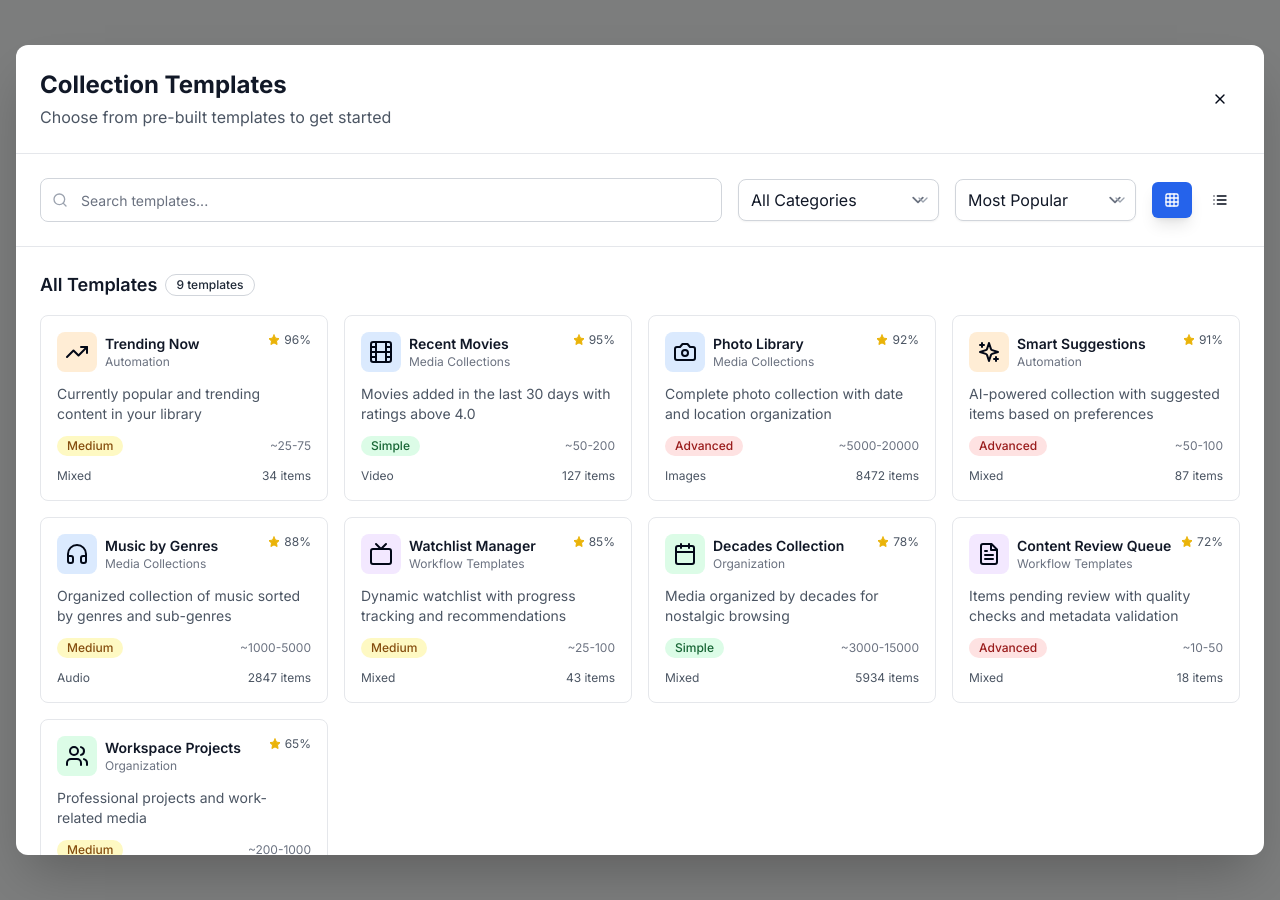
Test case: CollectionTemplates › closes template preview when Cancel is clicked
The width and height of the screenshot is (1280, 900).
What coordinates should you click on to do the following:
click the heading "Recent Movies"
I would click on:
 (460, 344)
Its box is [409,334,510,354].
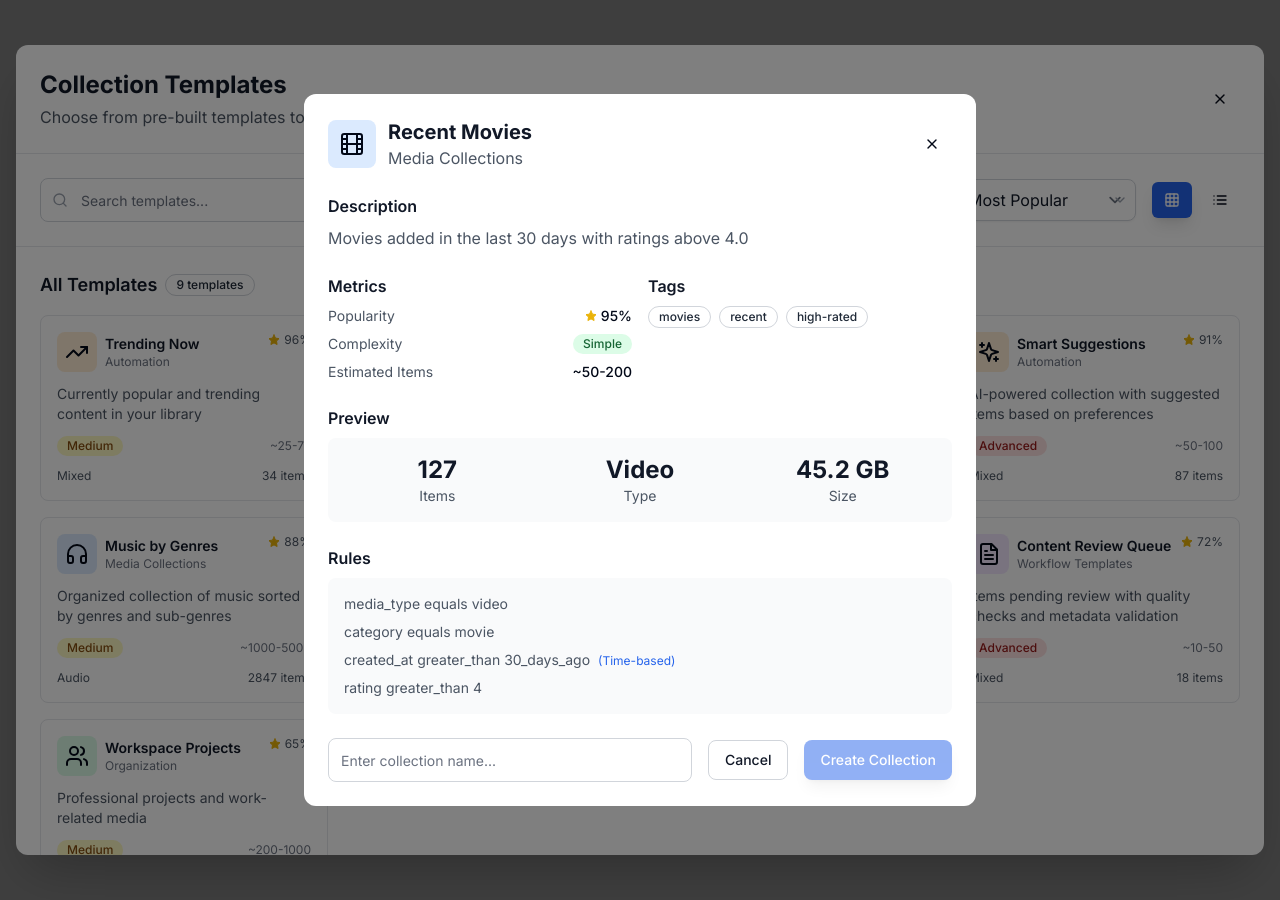
Check: the button "Create Collection" is shown, box [804,740,952,780]
What coordinates should you click on to do the following:
click the button "Cancel"
I would click on:
 (748, 760)
Its box is [708,740,788,780].
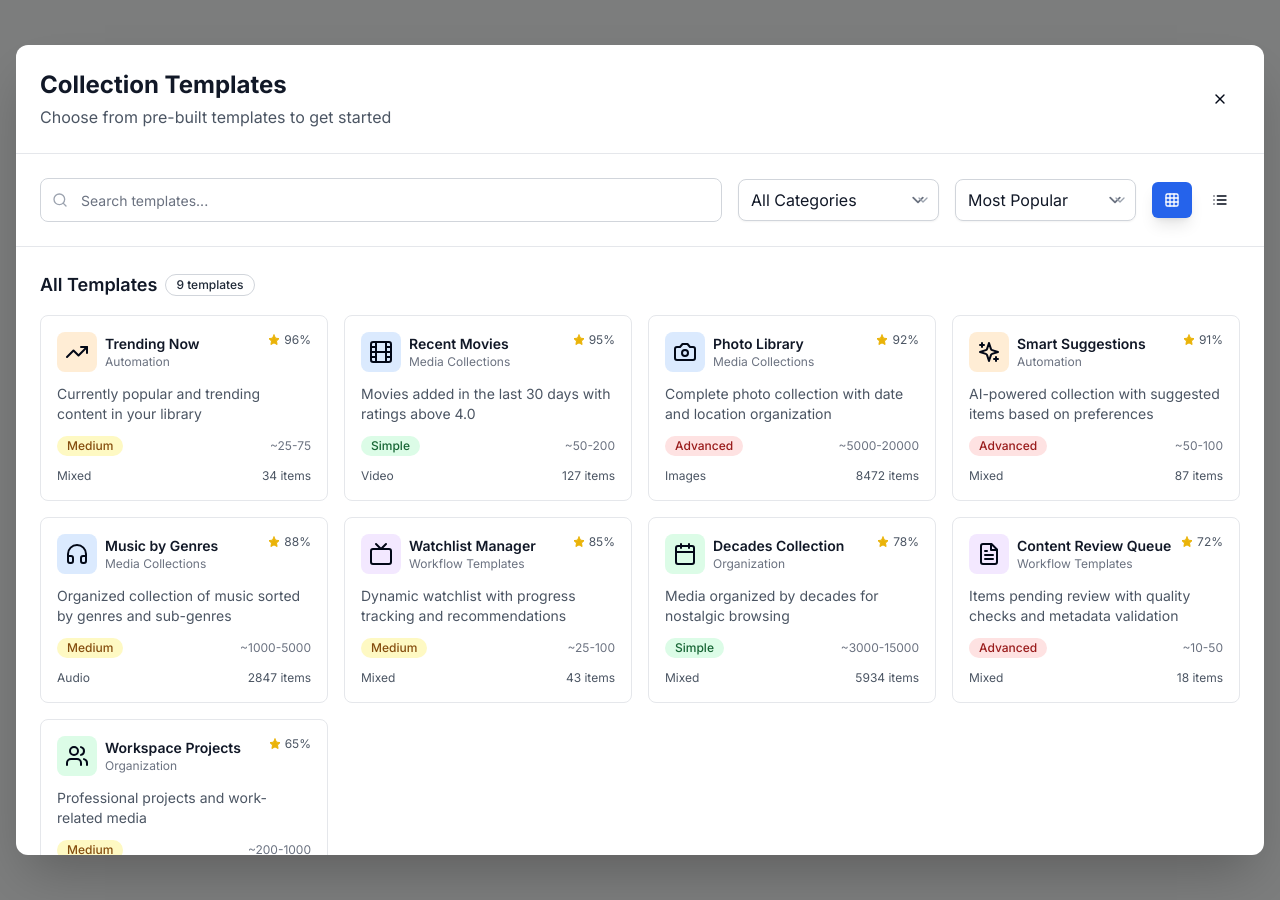
Check: the button "Create Collection" is gone
